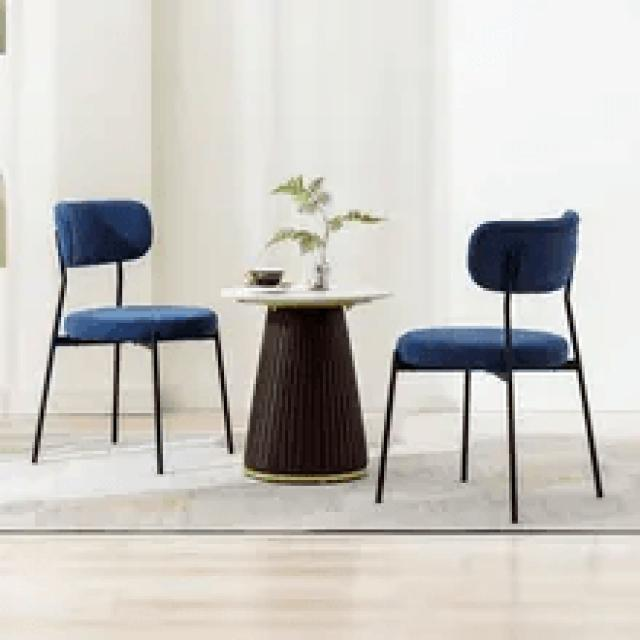chair: (374, 205, 608, 528), (26, 194, 238, 476), (376, 207, 576, 370), (40, 200, 228, 346)
